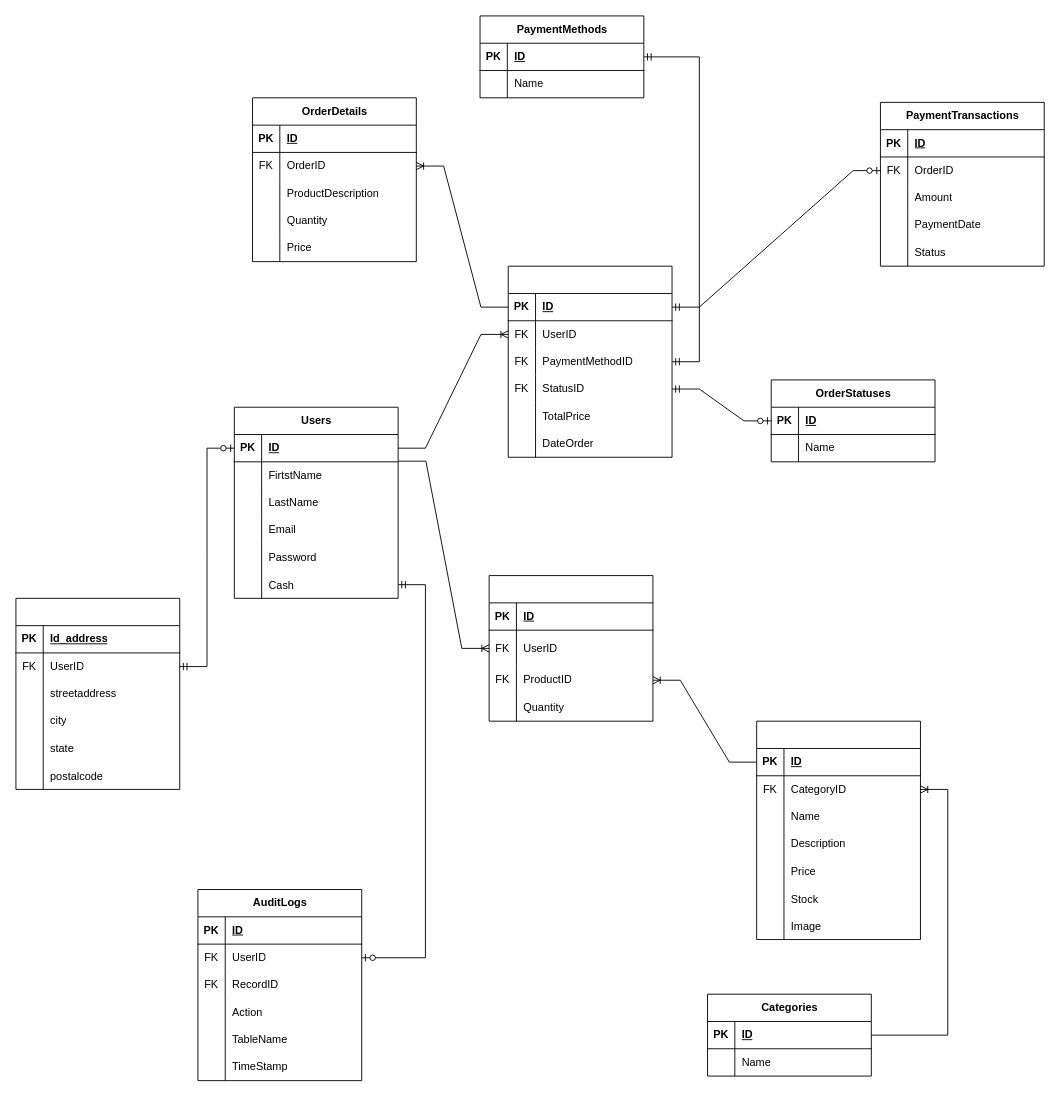
This 1060x1097 diagram has some shape labels left out. Here are the shapes that lost their labels. From the top down, the box of each, then its label:
(507, 265, 672, 457): Orders
(488, 575, 653, 721): Carts
(15, 597, 180, 789): Addresses
(756, 720, 920, 940): Products
